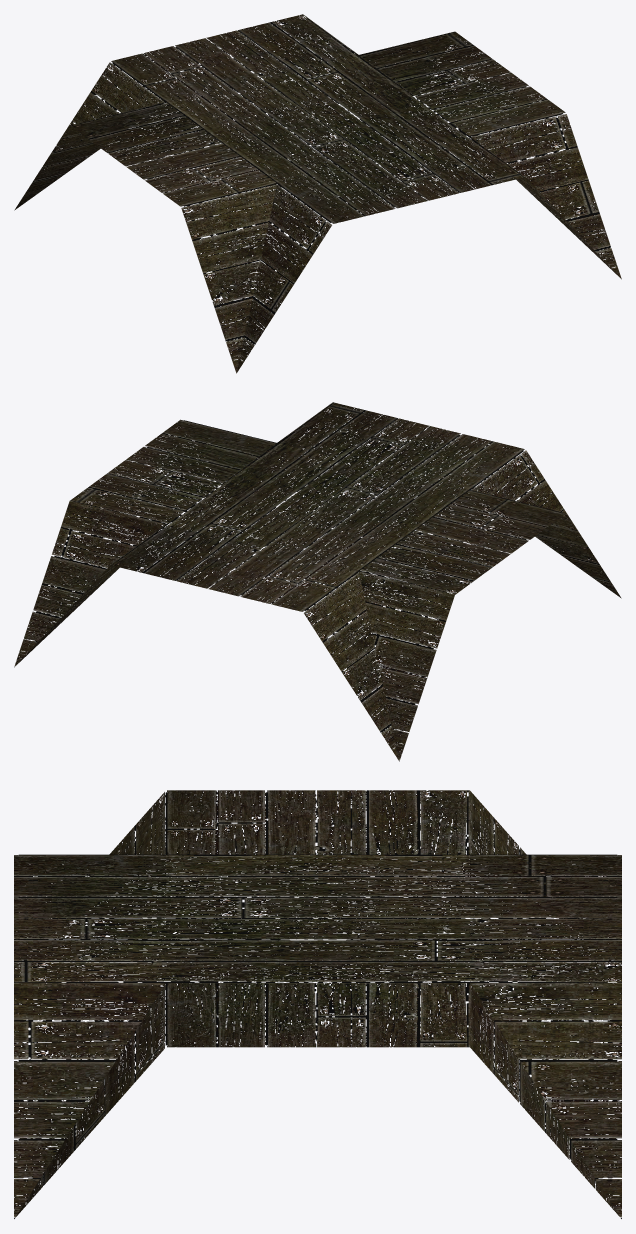
File: arched_wooden_roof_cross.dae
3 renders of one model, top to bottom at view 1: azimuth 30°, elevation 25°; view 2: azimuth 150°, elevation 25°; view 3: azimuth 270°, elevation 25°, orthographic. The views are drawn at different scales.
Parts seen in each view (by area): view 1: polySurface4; view 2: polySurface4; view 3: polySurface4.
Part boxes in pixels (x1,y1,x2,y2): polySurface4: (14, 14, 621, 373); polySurface4: (14, 402, 621, 761); polySurface4: (14, 790, 621, 1218).
Bounding box in the file's own units: 4 × 1.25 × 4.
